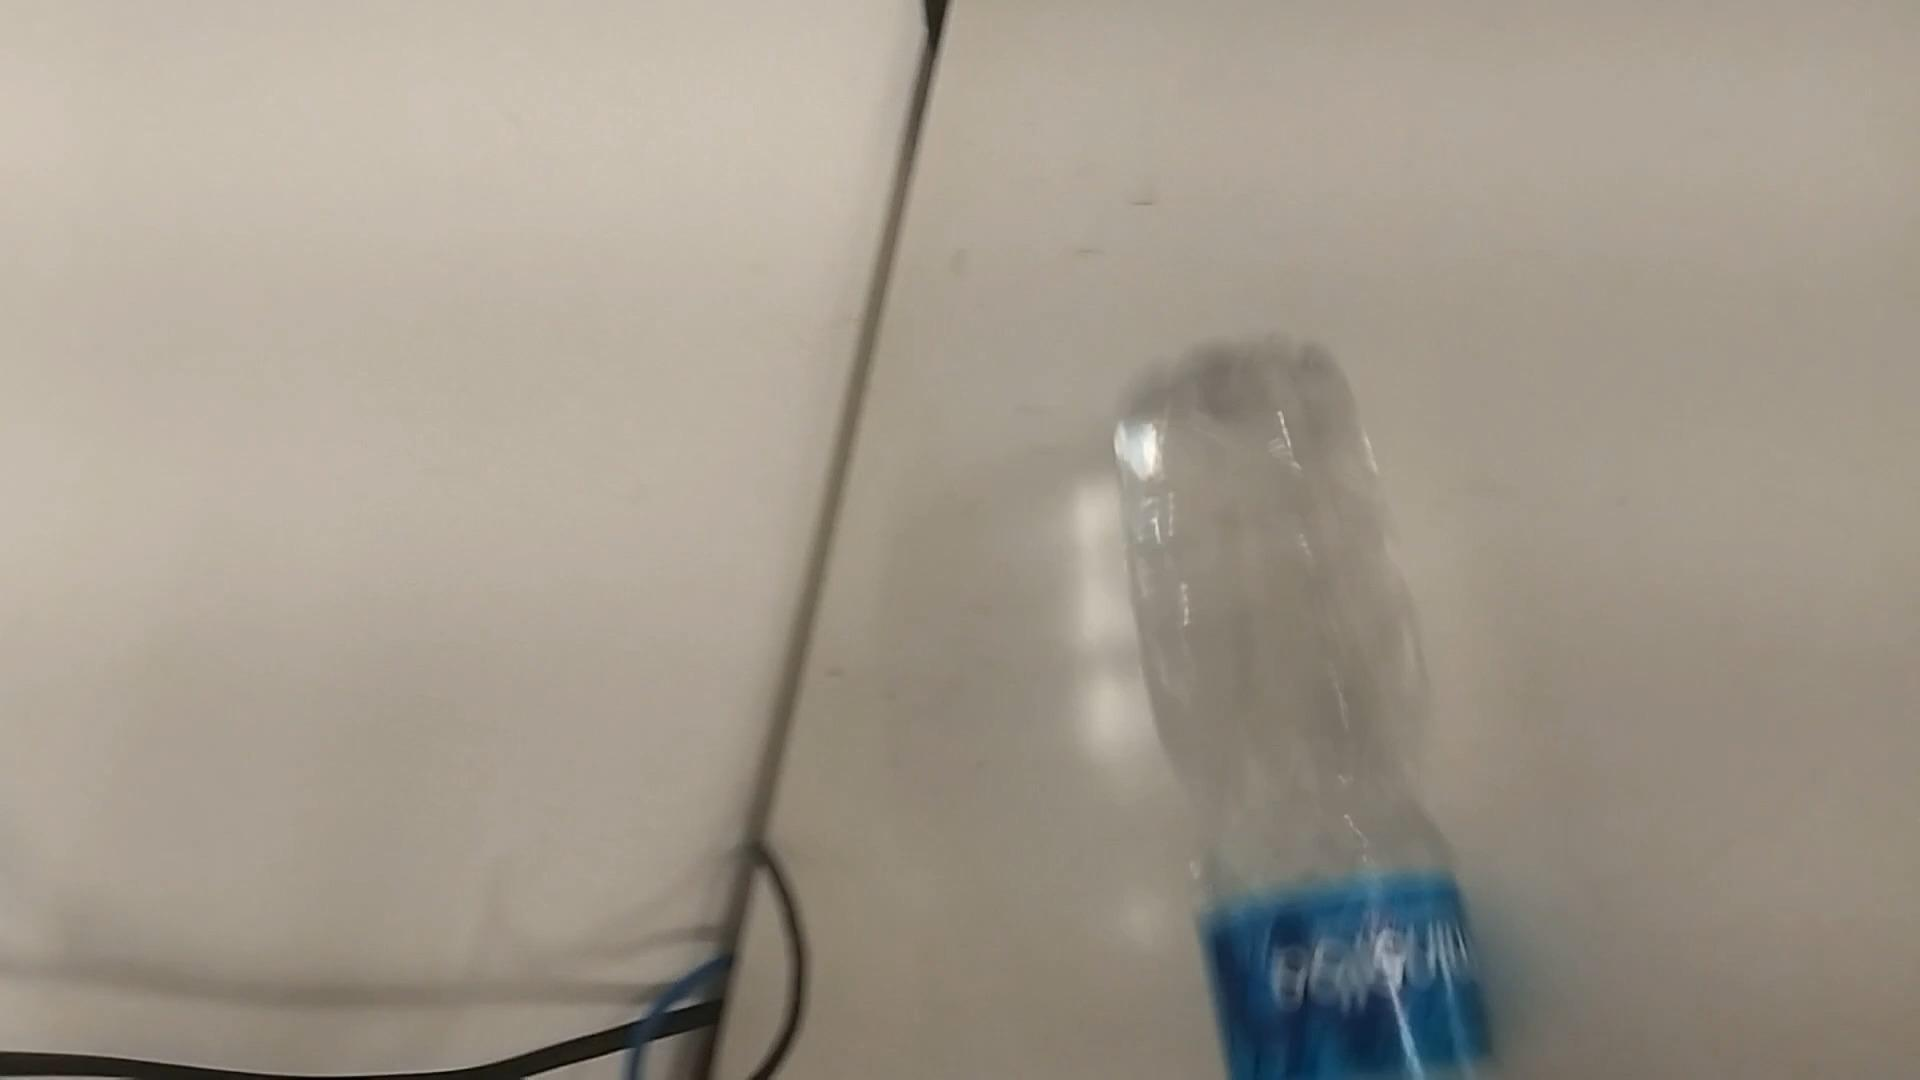agua: (1106, 334, 1505, 1077)
